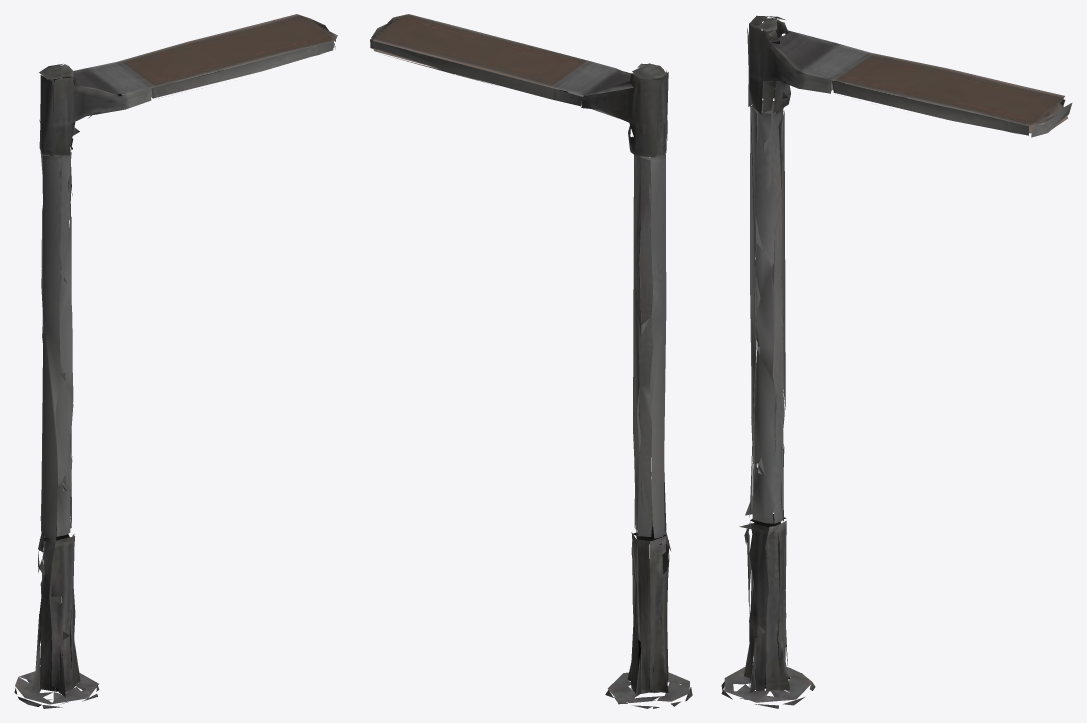
The model's file is stadt_laterne.glb.
3 views of the same model, side by side, from view 1: azimuth 30°, elevation 25°; view 2: azimuth 150°, elevation 25°; view 3: azimuth 330°, elevation 25° (orthographic). The views are drawn at different scales.
Visible parts, largest first — view 1: Prop; view 2: Prop; view 3: Prop.
Part boxes in pixels (x1=…): Prop: x1=14, y1=14, x2=337, y2=708; Prop: x1=370, y1=14, x2=692, y2=708; Prop: x1=721, y1=15, x2=1072, y2=708.
Size of the model in its own units: 0.5137 by 1 by 0.1213.
1 material, 1 textured.
